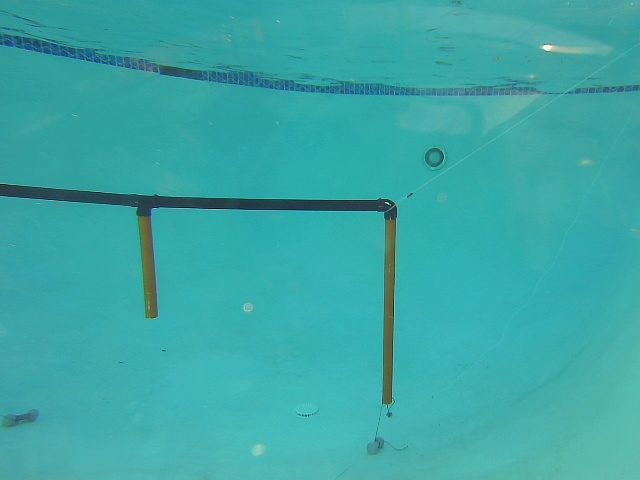Gate: (378, 213, 398, 408), (134, 210, 161, 324)
